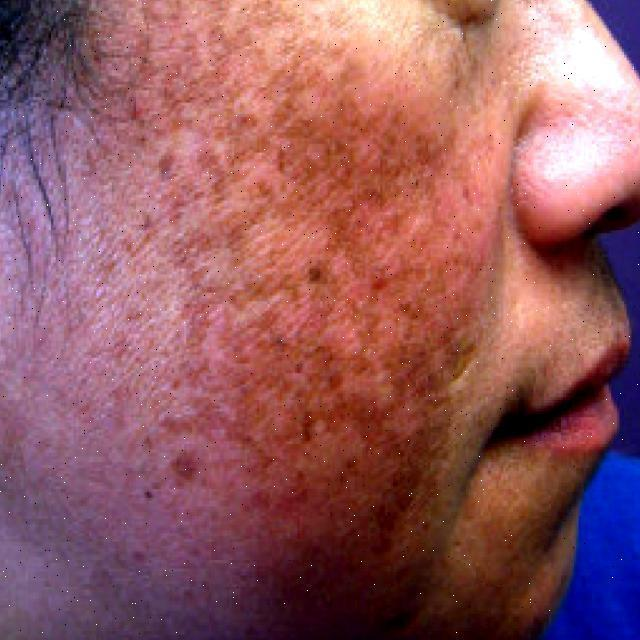Melasma: (80, 9, 474, 558)
